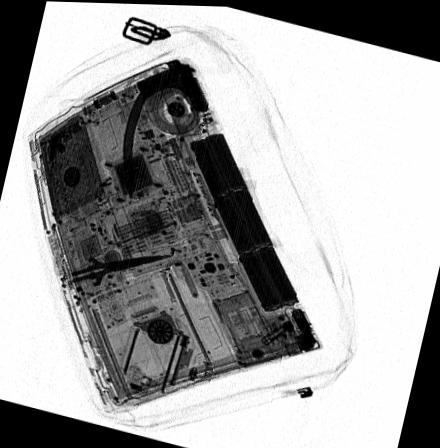Scissors: (50, 245, 175, 311)
